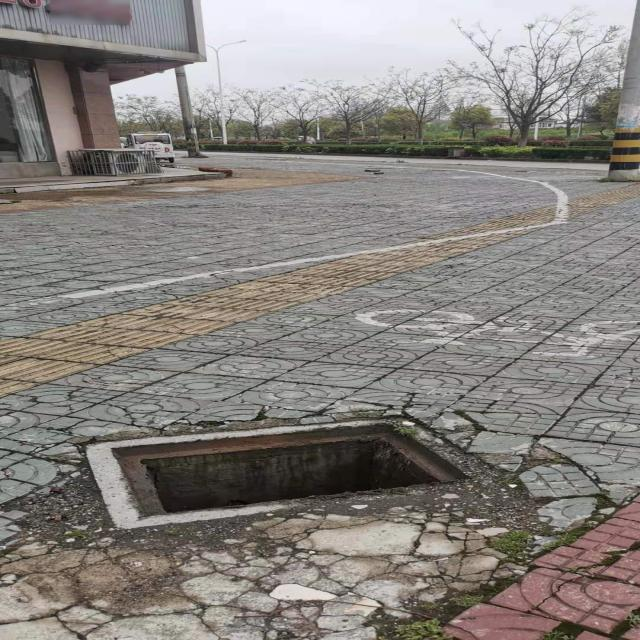Uncovered: (81, 417, 507, 530)
